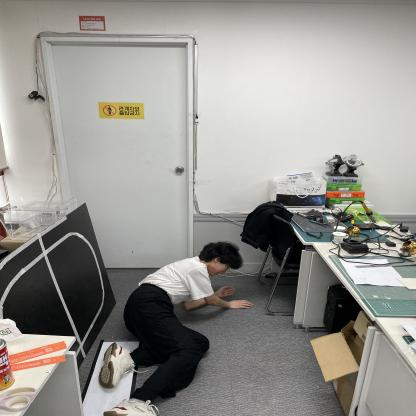fall: (104, 241, 252, 416)
